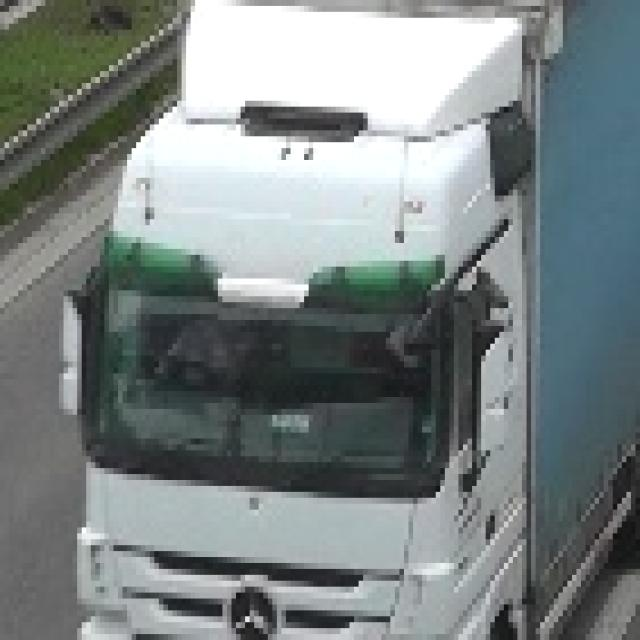TRUCK: (72, 0, 568, 634)
